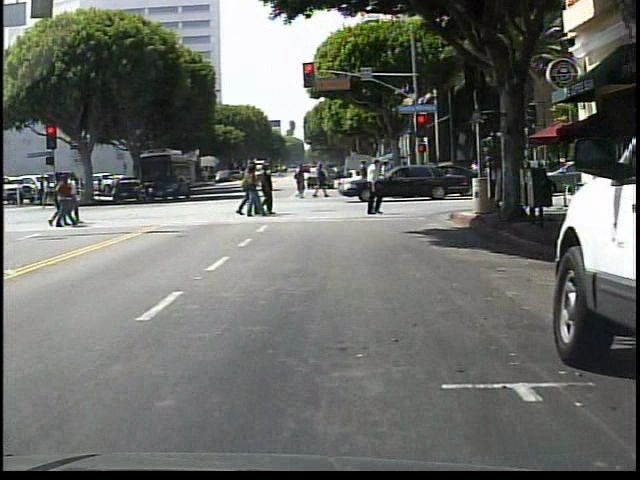person: (355, 157, 393, 222)
